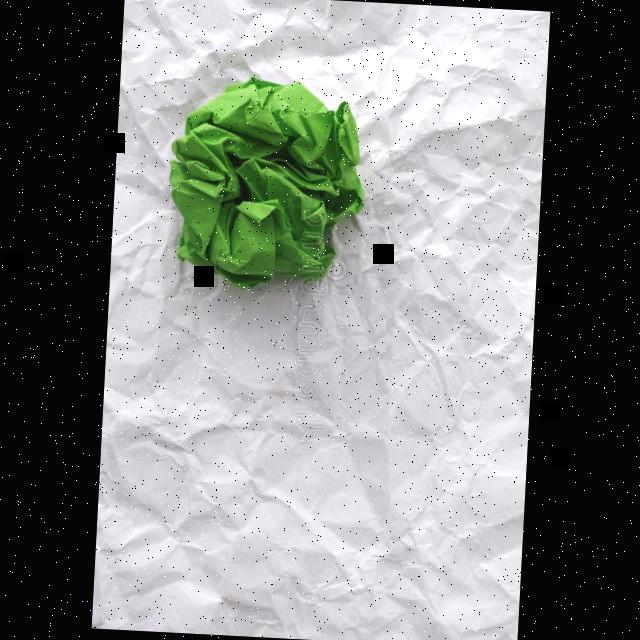scrap_paper: (167, 78, 363, 291)
